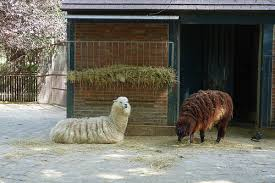alpaca: (49, 96, 132, 144), (173, 88, 233, 143)
